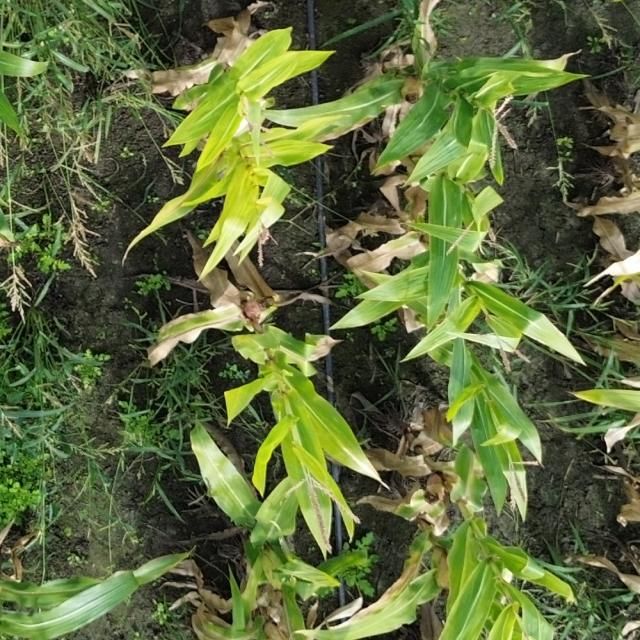northern-leaf-blight: (375, 558, 430, 616)
